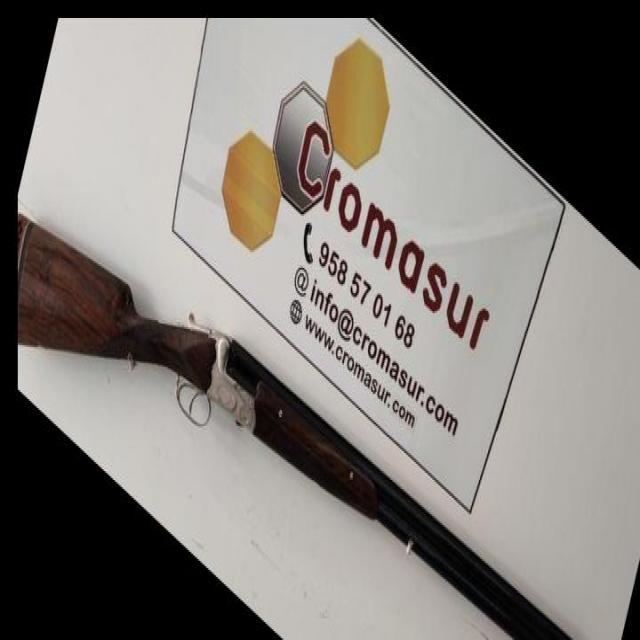weapon: (18, 202, 572, 640)
